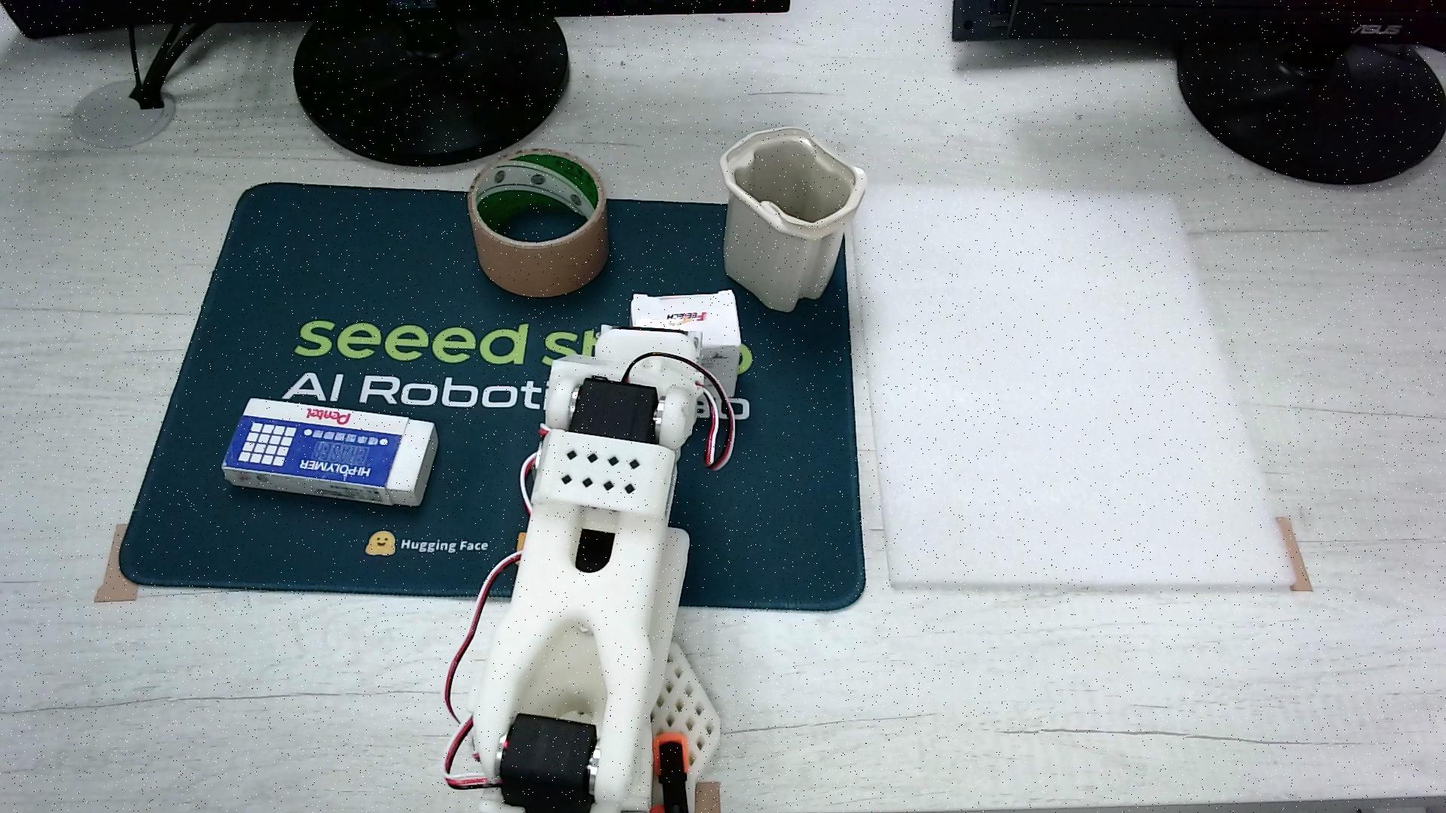eraser: (630, 290, 742, 395)
